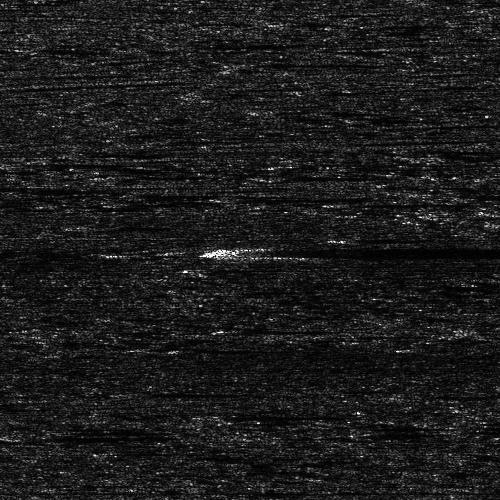object: (189, 409, 282, 420), (232, 164, 273, 187), (117, 390, 170, 395), (220, 246, 251, 253), (329, 202, 370, 205)
shadow: (253, 164, 351, 187), (236, 246, 500, 253), (236, 409, 376, 420), (144, 390, 280, 395), (230, 195, 329, 198), (350, 202, 401, 205)
